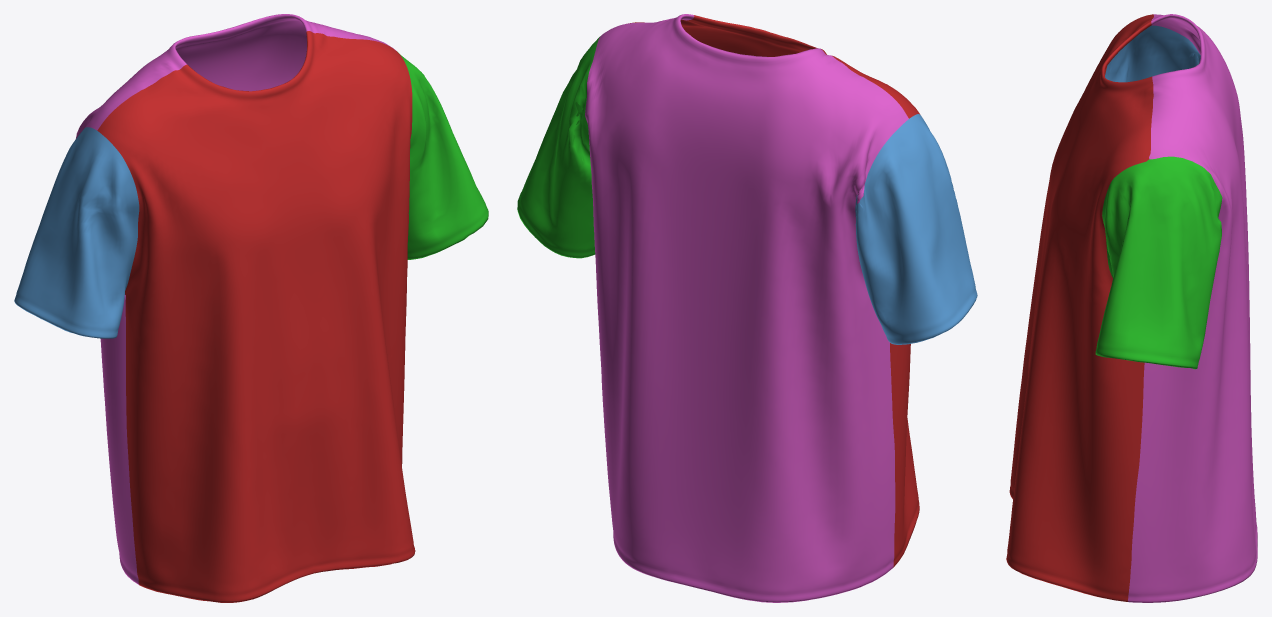
File: OverSize_Revision2.glb
3 views of the same model, side by side, from view 1: azimuth 30°, elevation 25°; view 2: azimuth 150°, elevation 25°; view 3: azimuth 270°, elevation 25° (orthographic). The views are drawn at different scales.
Visible parts, largest first — view 1: Front, RightHand, Back, LeftHand; view 2: Back, RightHand, LeftHand, Front; view 3: Front, Back, LeftHand, RightHand.
Boxes of the visible parts, x1=… form: Front: x1=97, y1=31, x2=415, y2=602; RightHand: x1=14, y1=127, x2=139, y2=338; Back: x1=76, y1=14, x2=396, y2=584; LeftHand: x1=397, y1=51, x2=488, y2=259; Back: x1=585, y1=14, x2=908, y2=602; RightHand: x1=855, y1=114, x2=977, y2=344; LeftHand: x1=517, y1=36, x2=600, y2=258; Front: x1=630, y1=15, x2=920, y2=567; Front: x1=1006, y1=14, x2=1153, y2=601; Back: x1=1128, y1=14, x2=1257, y2=602; LeftHand: x1=1095, y1=156, x2=1222, y2=369; RightHand: x1=1105, y1=25, x2=1200, y2=82.
Size of the model in its own units: 21.77 by 24.28 by 10.99.
